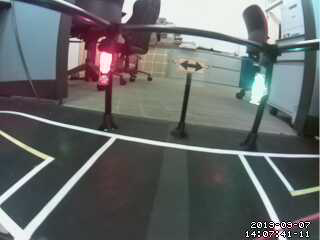Left_Right_sign: (173, 55, 209, 78)
Traffic_light_green: (254, 70, 267, 111)
Traffic_light_red: (95, 52, 112, 91)
